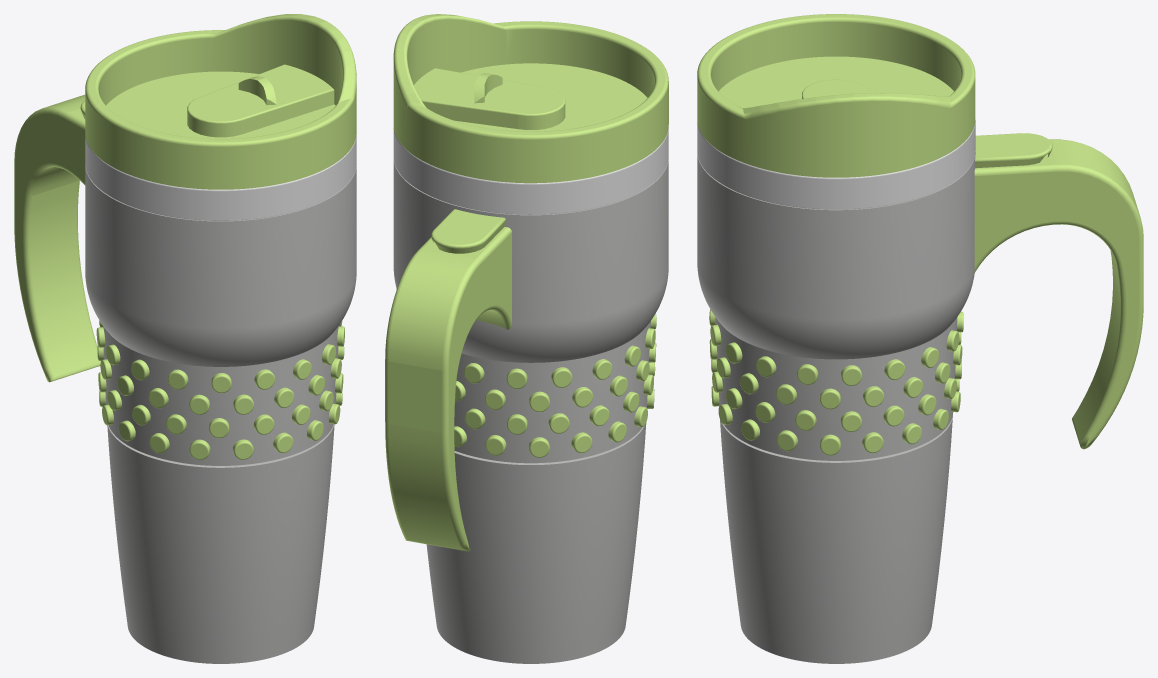
3 views of the same model, side by side, from view 1: azimuth 30°, elevation 25°; view 2: azimuth 150°, elevation 25°; view 3: azimuth 270°, elevation 25° (orthographic). The views are drawn at different scales.
Parts seen in each view (by area): view 1: mesh13_mesh13-geometry, mesh14_mesh14-geometry, mesh1_mesh1-geometry, mesh13_mesh13-geometry_2, mesh33_mesh33-geometry; view 2: mesh13_mesh13-geometry, mesh14_mesh14-geometry, mesh1_mesh1-geometry, mesh13_mesh13-geometry_2, mesh33_mesh33-geometry, mesh9_mesh9-geometry; view 3: mesh13_mesh13-geometry, mesh14_mesh14-geometry, mesh1_mesh1-geometry, mesh13_mesh13-geometry_2, mesh9_mesh9-geometry, mesh33_mesh33-geometry.
Part boxes in pixels (x1,y1,x2,y2): mesh13_mesh13-geometry: (85, 166, 356, 663); mesh14_mesh14-geometry: (85, 14, 356, 189); mesh1_mesh1-geometry: (14, 94, 100, 382); mesh13_mesh13-geometry_2: (85, 135, 356, 220); mesh33_mesh33-geometry: (187, 64, 334, 137); mesh13_mesh13-geometry: (393, 160, 668, 663); mesh14_mesh14-geometry: (393, 14, 668, 183); mesh1_mesh1-geometry: (385, 227, 511, 551); mesh13_mesh13-geometry_2: (393, 106, 668, 214); mesh33_mesh33-geometry: (413, 68, 565, 129); mesh9_mesh9-geometry: (431, 209, 505, 253); mesh13_mesh13-geometry: (697, 151, 975, 663); mesh14_mesh14-geometry: (697, 14, 975, 177); mesh1_mesh1-geometry: (974, 139, 1143, 449); mesh13_mesh13-geometry_2: (697, 120, 975, 209); mesh9_mesh9-geometry: (975, 133, 1052, 168); mesh33_mesh33-geometry: (802, 79, 870, 98).
Size of the model in its own units: 0.3348 by 0.7742 by 0.5372.
